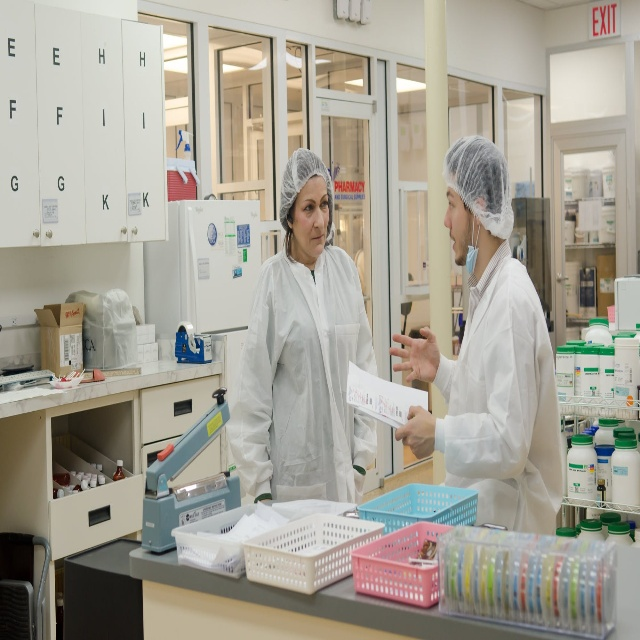Mascara: (464, 208, 482, 271)
Sin_guantes: (388, 325, 440, 386), (395, 405, 435, 462)
